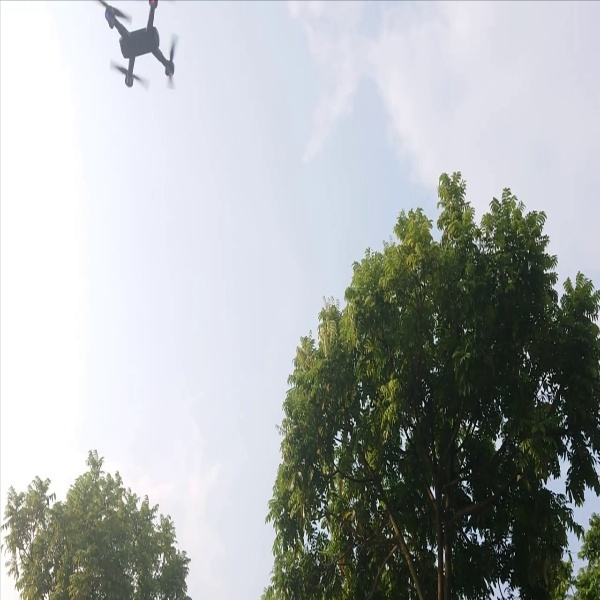drone: (97, 1, 190, 105)
